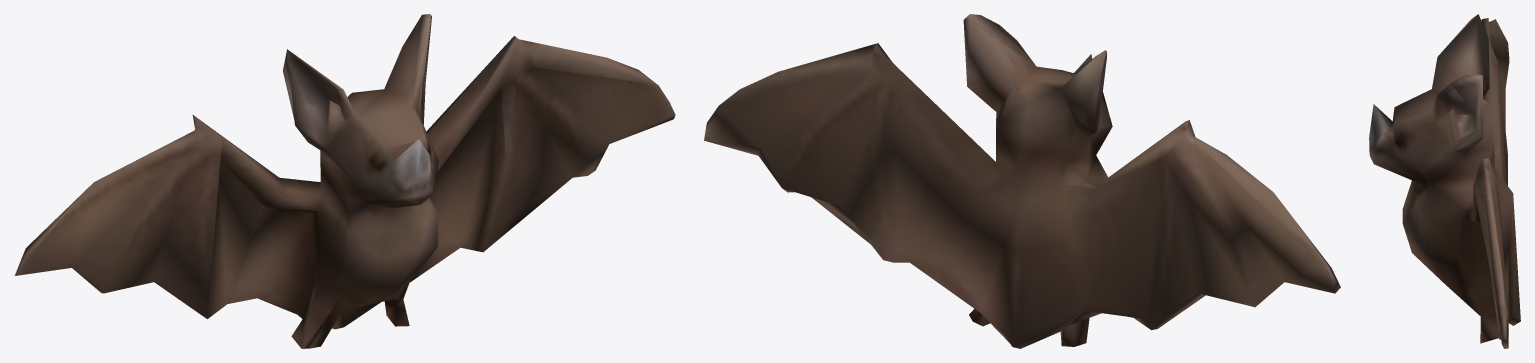
Rendered from leaf_nosed_bats-CpcbFnqW.glb.
3 views of the same model, side by side, from view 1: azimuth 30°, elevation 25°; view 2: azimuth 150°, elevation 25°; view 3: azimuth 270°, elevation 25° (orthographic). The views are drawn at different scales.
Parts seen in each view (by area): view 1: geom0; view 2: geom0; view 3: geom0.
Part boxes in pixels (x1,y1,x2,y2): geom0: (14,14,675,348); geom0: (704,14,1340,348); geom0: (1369,14,1520,348).
Size of the model in its own units: 1.01 by 0.4569 by 0.2242.
1 material, 1 textured.
